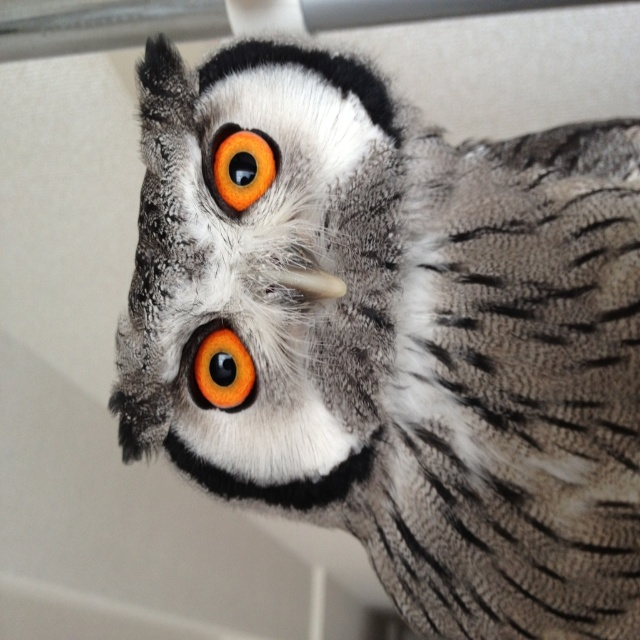Owl: (104, 28, 640, 639)
